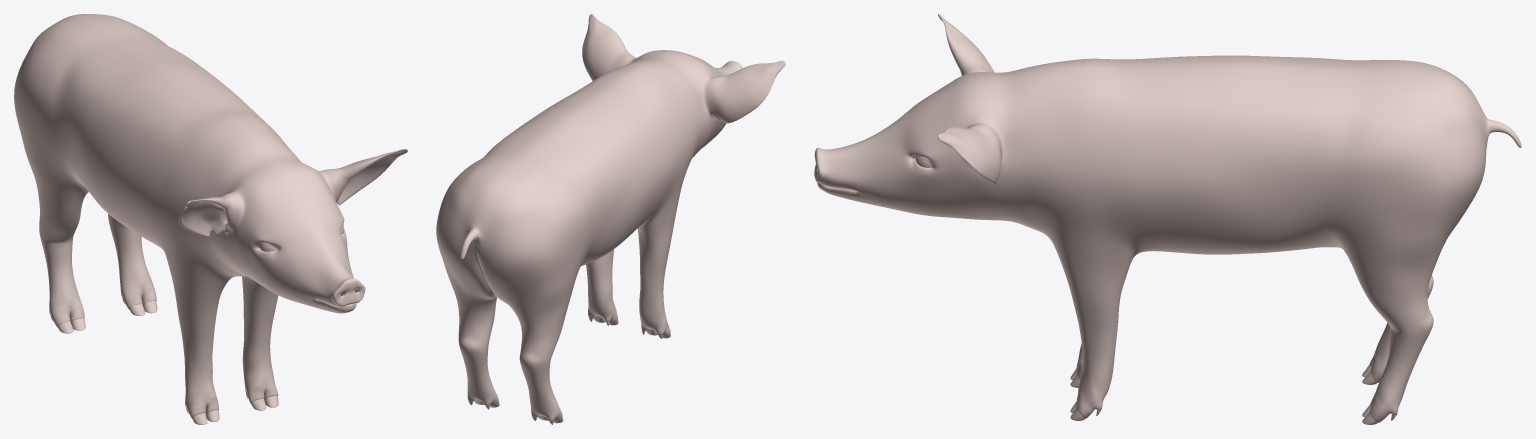
Rendered from cerdito.fbx.
3 renders of one model, left to right at view 1: azimuth 30°, elevation 25°; view 2: azimuth 150°, elevation 25°; view 3: azimuth 270°, elevation 25°, orthographic. The views are drawn at different scales.
Visible parts, largest first — view 1: GRIS; view 2: GRIS; view 3: GRIS.
Boxes of the visible parts, bbox=[...] form: GRIS: bbox=[14, 14, 407, 424]; GRIS: bbox=[436, 14, 785, 424]; GRIS: bbox=[814, 14, 1521, 424].
Bounding box in the file's own units: 355 × 450 × 861.
